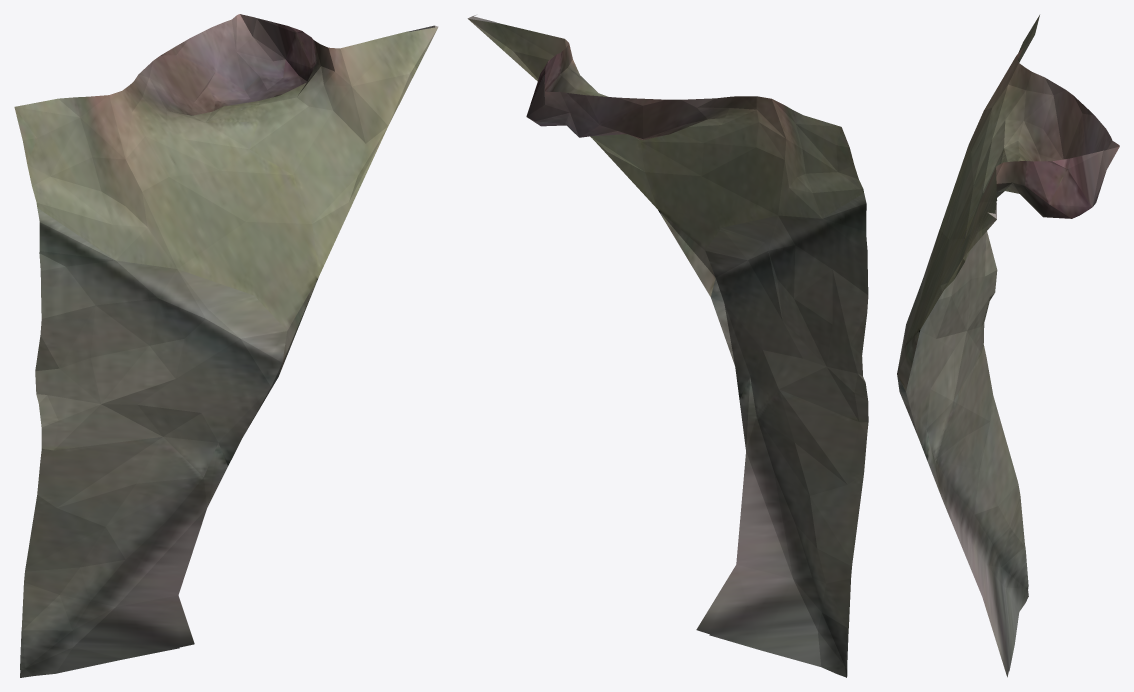
The model's file is tile_13_1.obj.
3 views of the same model, side by side, from view 1: azimuth 30°, elevation 25°; view 2: azimuth 150°, elevation 25°; view 3: azimuth 270°, elevation 25° (orthographic). The views are drawn at different scales.
Parts seen in each view (by area): view 1: texture_0; view 2: texture_0; view 3: texture_0.
Boxes of the visible parts, x1=… form: texture_0: x1=14, y1=14, x2=438, y2=677; texture_0: x1=467, y1=15, x2=868, y2=677; texture_0: x1=897, y1=15, x2=1119, y2=677.
Size of the model in its own units: 9.62 by 12.92 by 4.48.
1 material, 1 textured.
